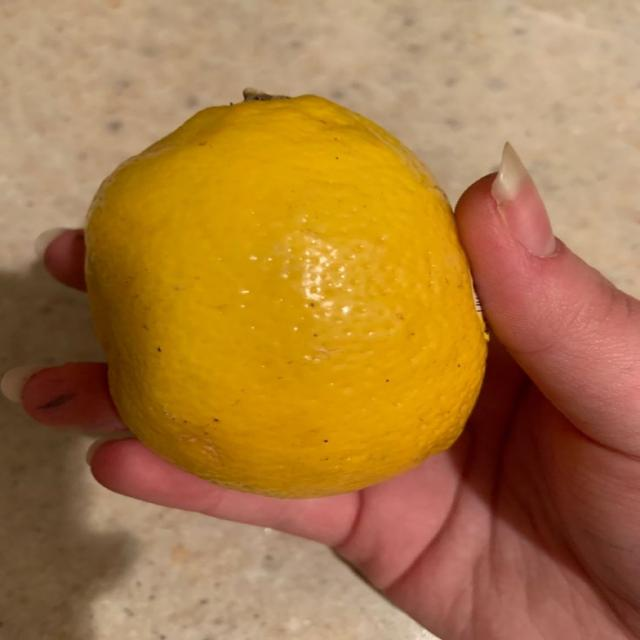lemon: (87, 92, 486, 497)
